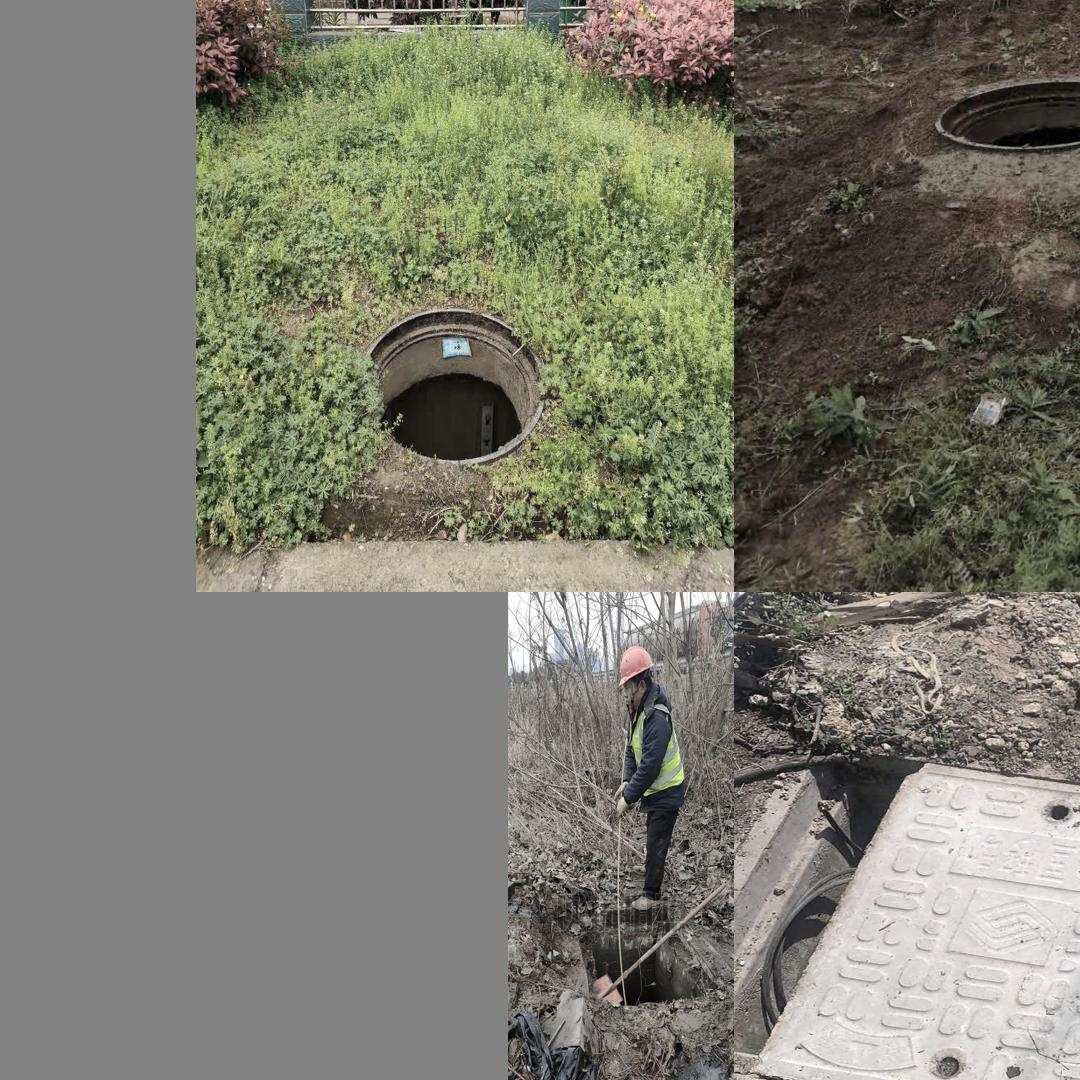lose: (743, 742, 1080, 1080), (357, 304, 545, 465), (925, 70, 1080, 186), (575, 928, 718, 1011)
